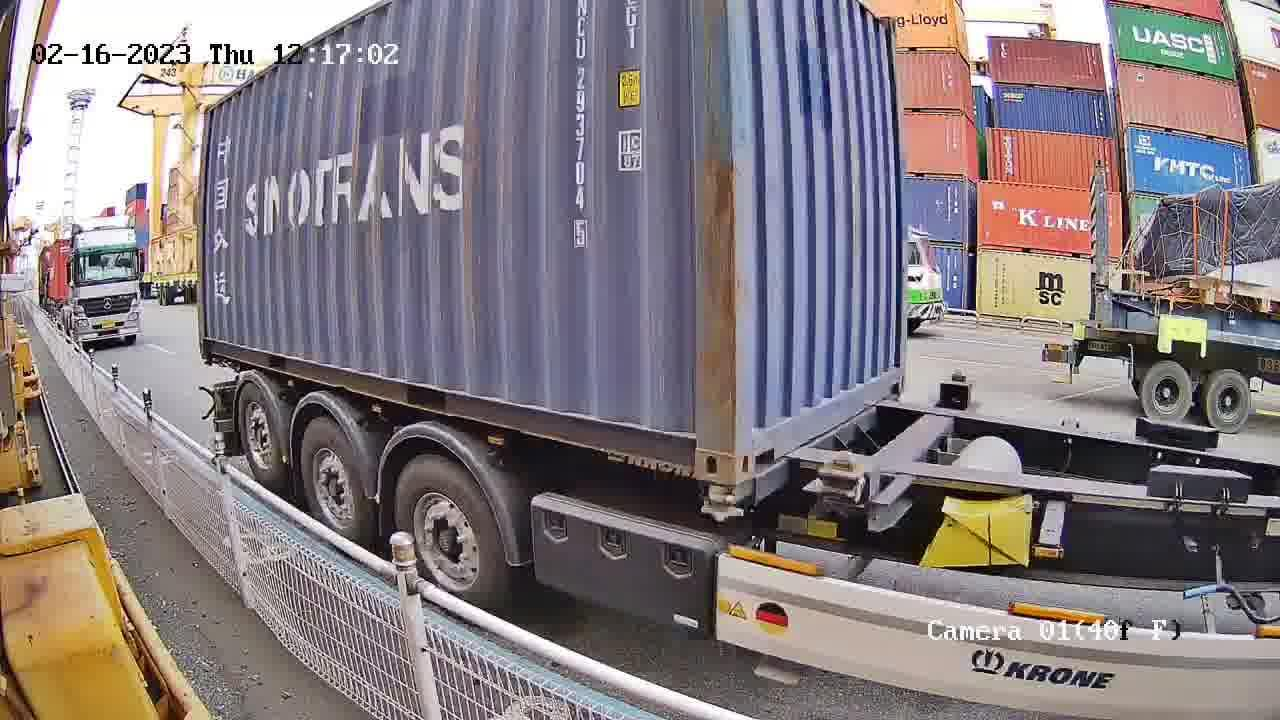Chassis: (740, 395, 901, 514)
Cone: (700, 481, 744, 523)
Hole_L: (734, 398, 783, 482)
Hole_R: (665, 411, 731, 480), (877, 347, 908, 400)
Tire: (393, 456, 501, 600), (300, 420, 366, 536), (237, 386, 283, 482)
